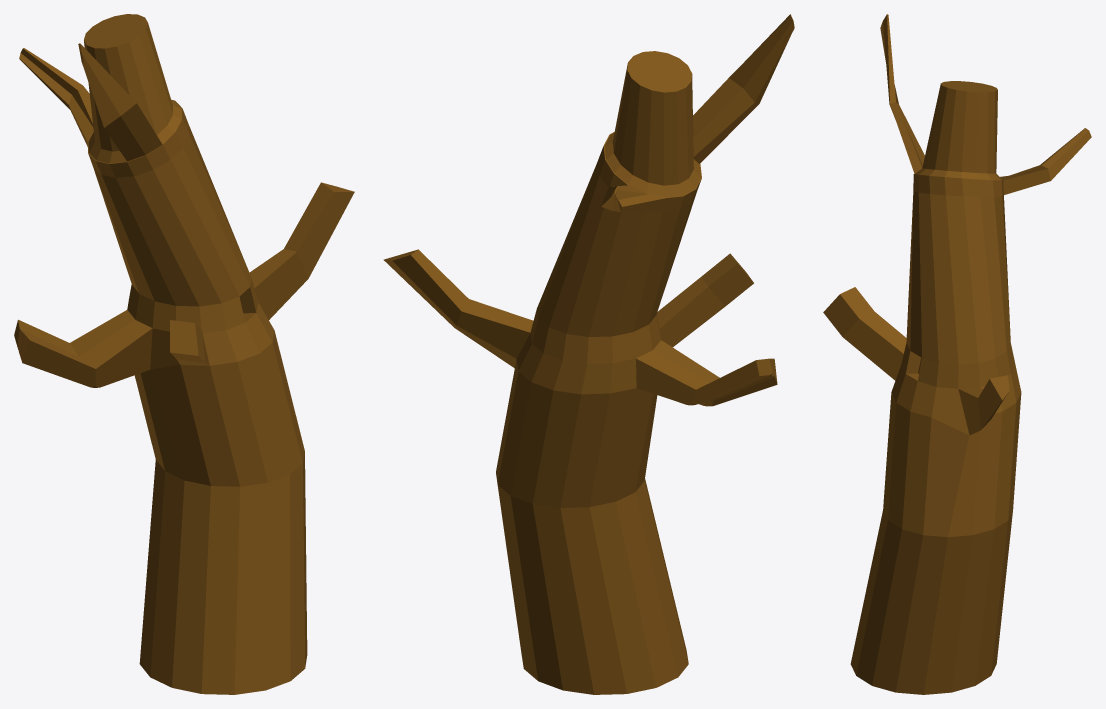
Rendered from deadtree.fbx.
3 renders of one model, left to right at view 1: azimuth 30°, elevation 25°; view 2: azimuth 150°, elevation 25°; view 3: azimuth 270°, elevation 25°, orthographic. The views are drawn at different scales.
Visible parts, largest first — view 1: Icosphere; view 2: Icosphere; view 3: Icosphere.
Boxes of the visible parts, x1,y1,x2,y2 form: Icosphere: (14, 14, 354, 694); Icosphere: (383, 14, 794, 694); Icosphere: (823, 14, 1091, 694).
Bounding box in the file's own units: 498 × 877 × 368.
